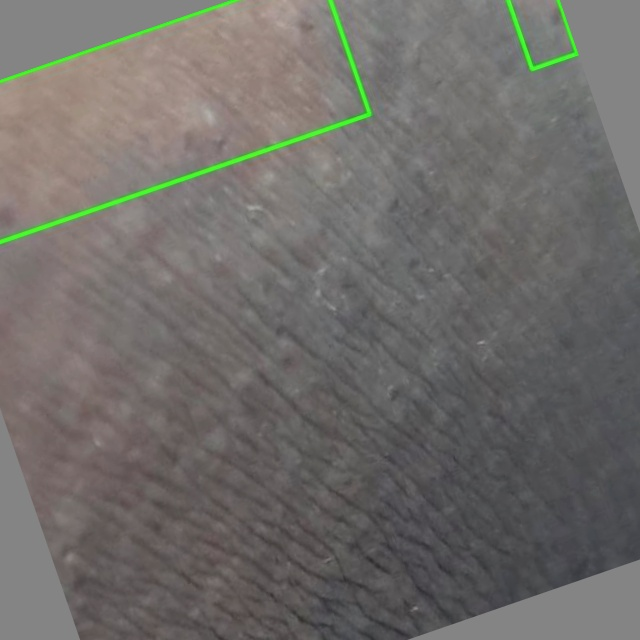Tinea Corporis: (0, 0, 369, 241)
